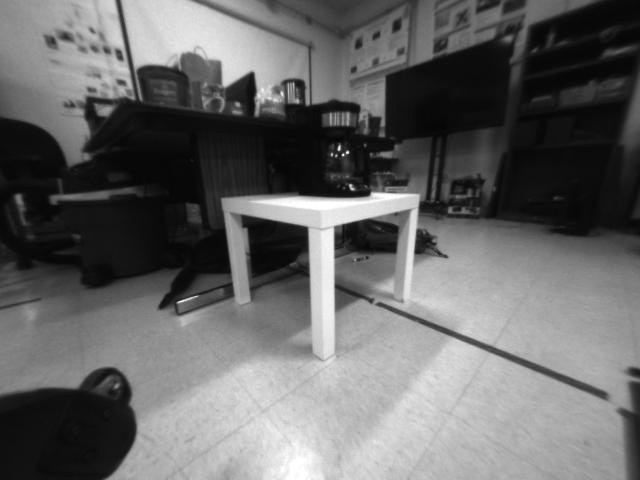coffee_pot: (294, 99, 377, 202)
